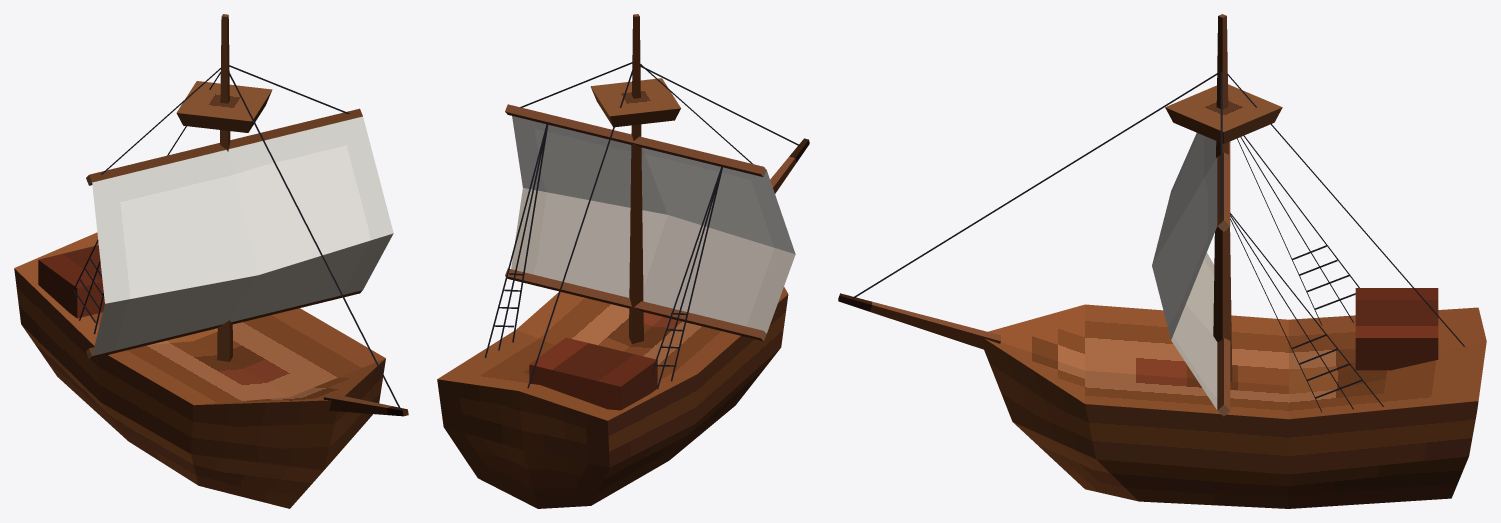
File: ship.glb
3 renders of one model, left to right at view 1: azimuth 30°, elevation 25°; view 2: azimuth 150°, elevation 25°; view 3: azimuth 270°, elevation 25°, orthographic. The views are drawn at different scales.
Visible parts, largest first — view 1: ship; view 2: ship; view 3: ship.
Boxes of the visible parts, x1,y1,x2,y2 form: ship: (14, 14, 408, 508); ship: (437, 14, 809, 508); ship: (838, 14, 1486, 508).
Bounding box in the file's own units: 2.15 × 3.22 × 3.94.
1 material, 1 textured.
